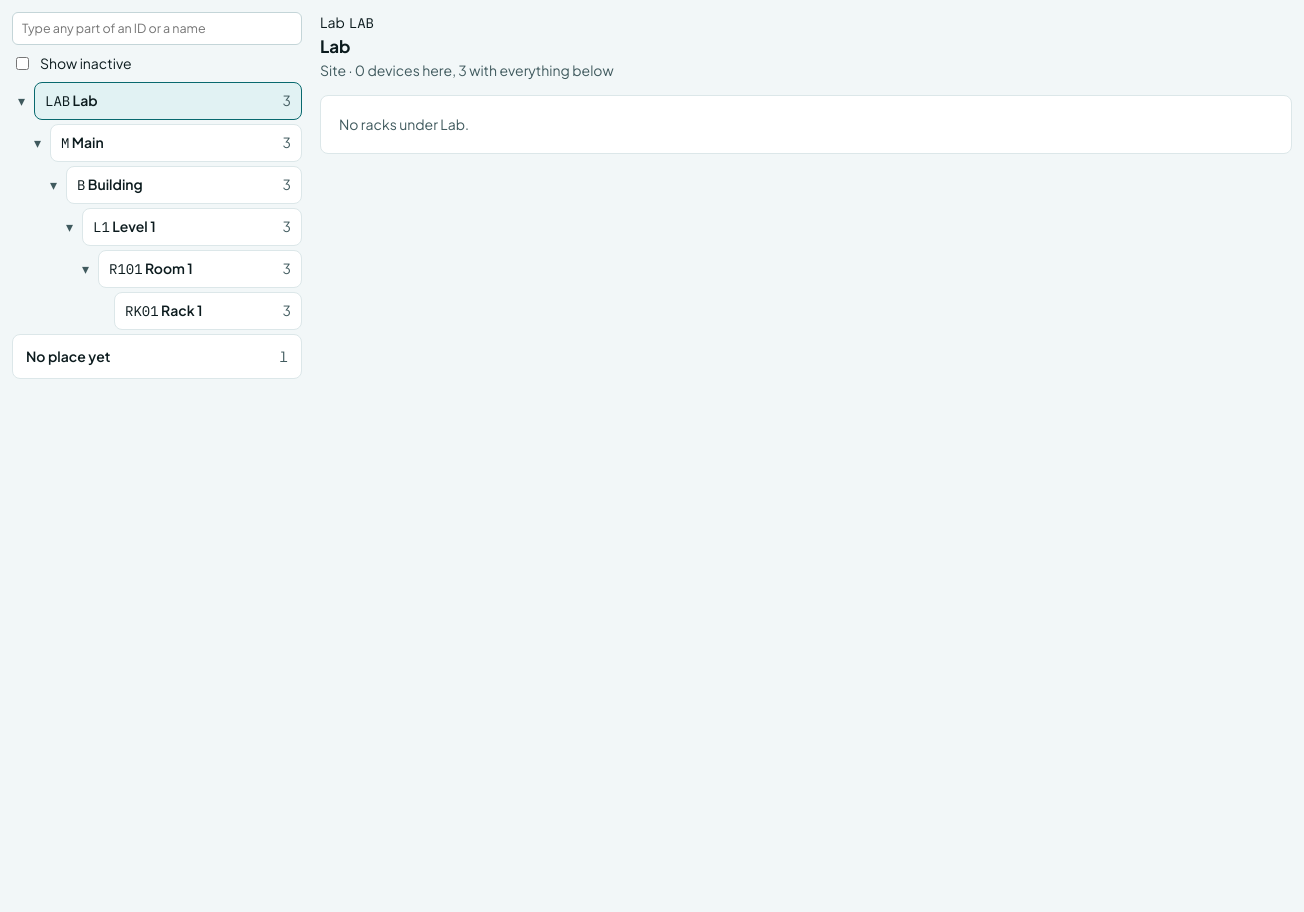
PlacesPanel › offers the upper three levels only with inventory.places
The image size is (1304, 912).
Check: the list item with test id "place-LAB" is shown, box [34,82,302,120]
Click the list item with test id "place-LAB-M-B-L1" at (192, 227), box [82,208,302,246]
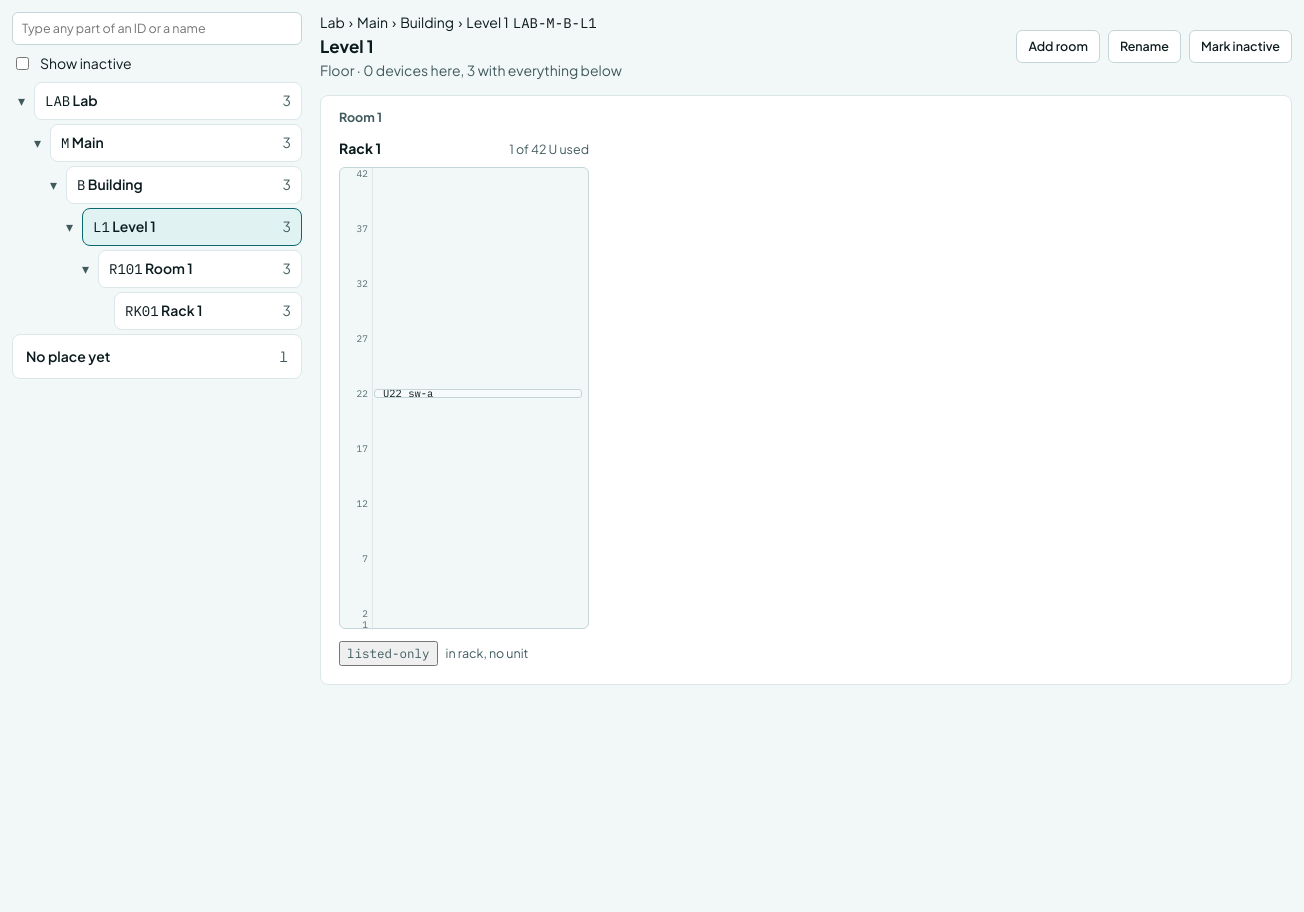
Check: the button with test id "place-add-child" reads "Add room", box [1016,30,1100,63]
Check: the button with test id "place-rename" is shown, box [1108,30,1181,63]
